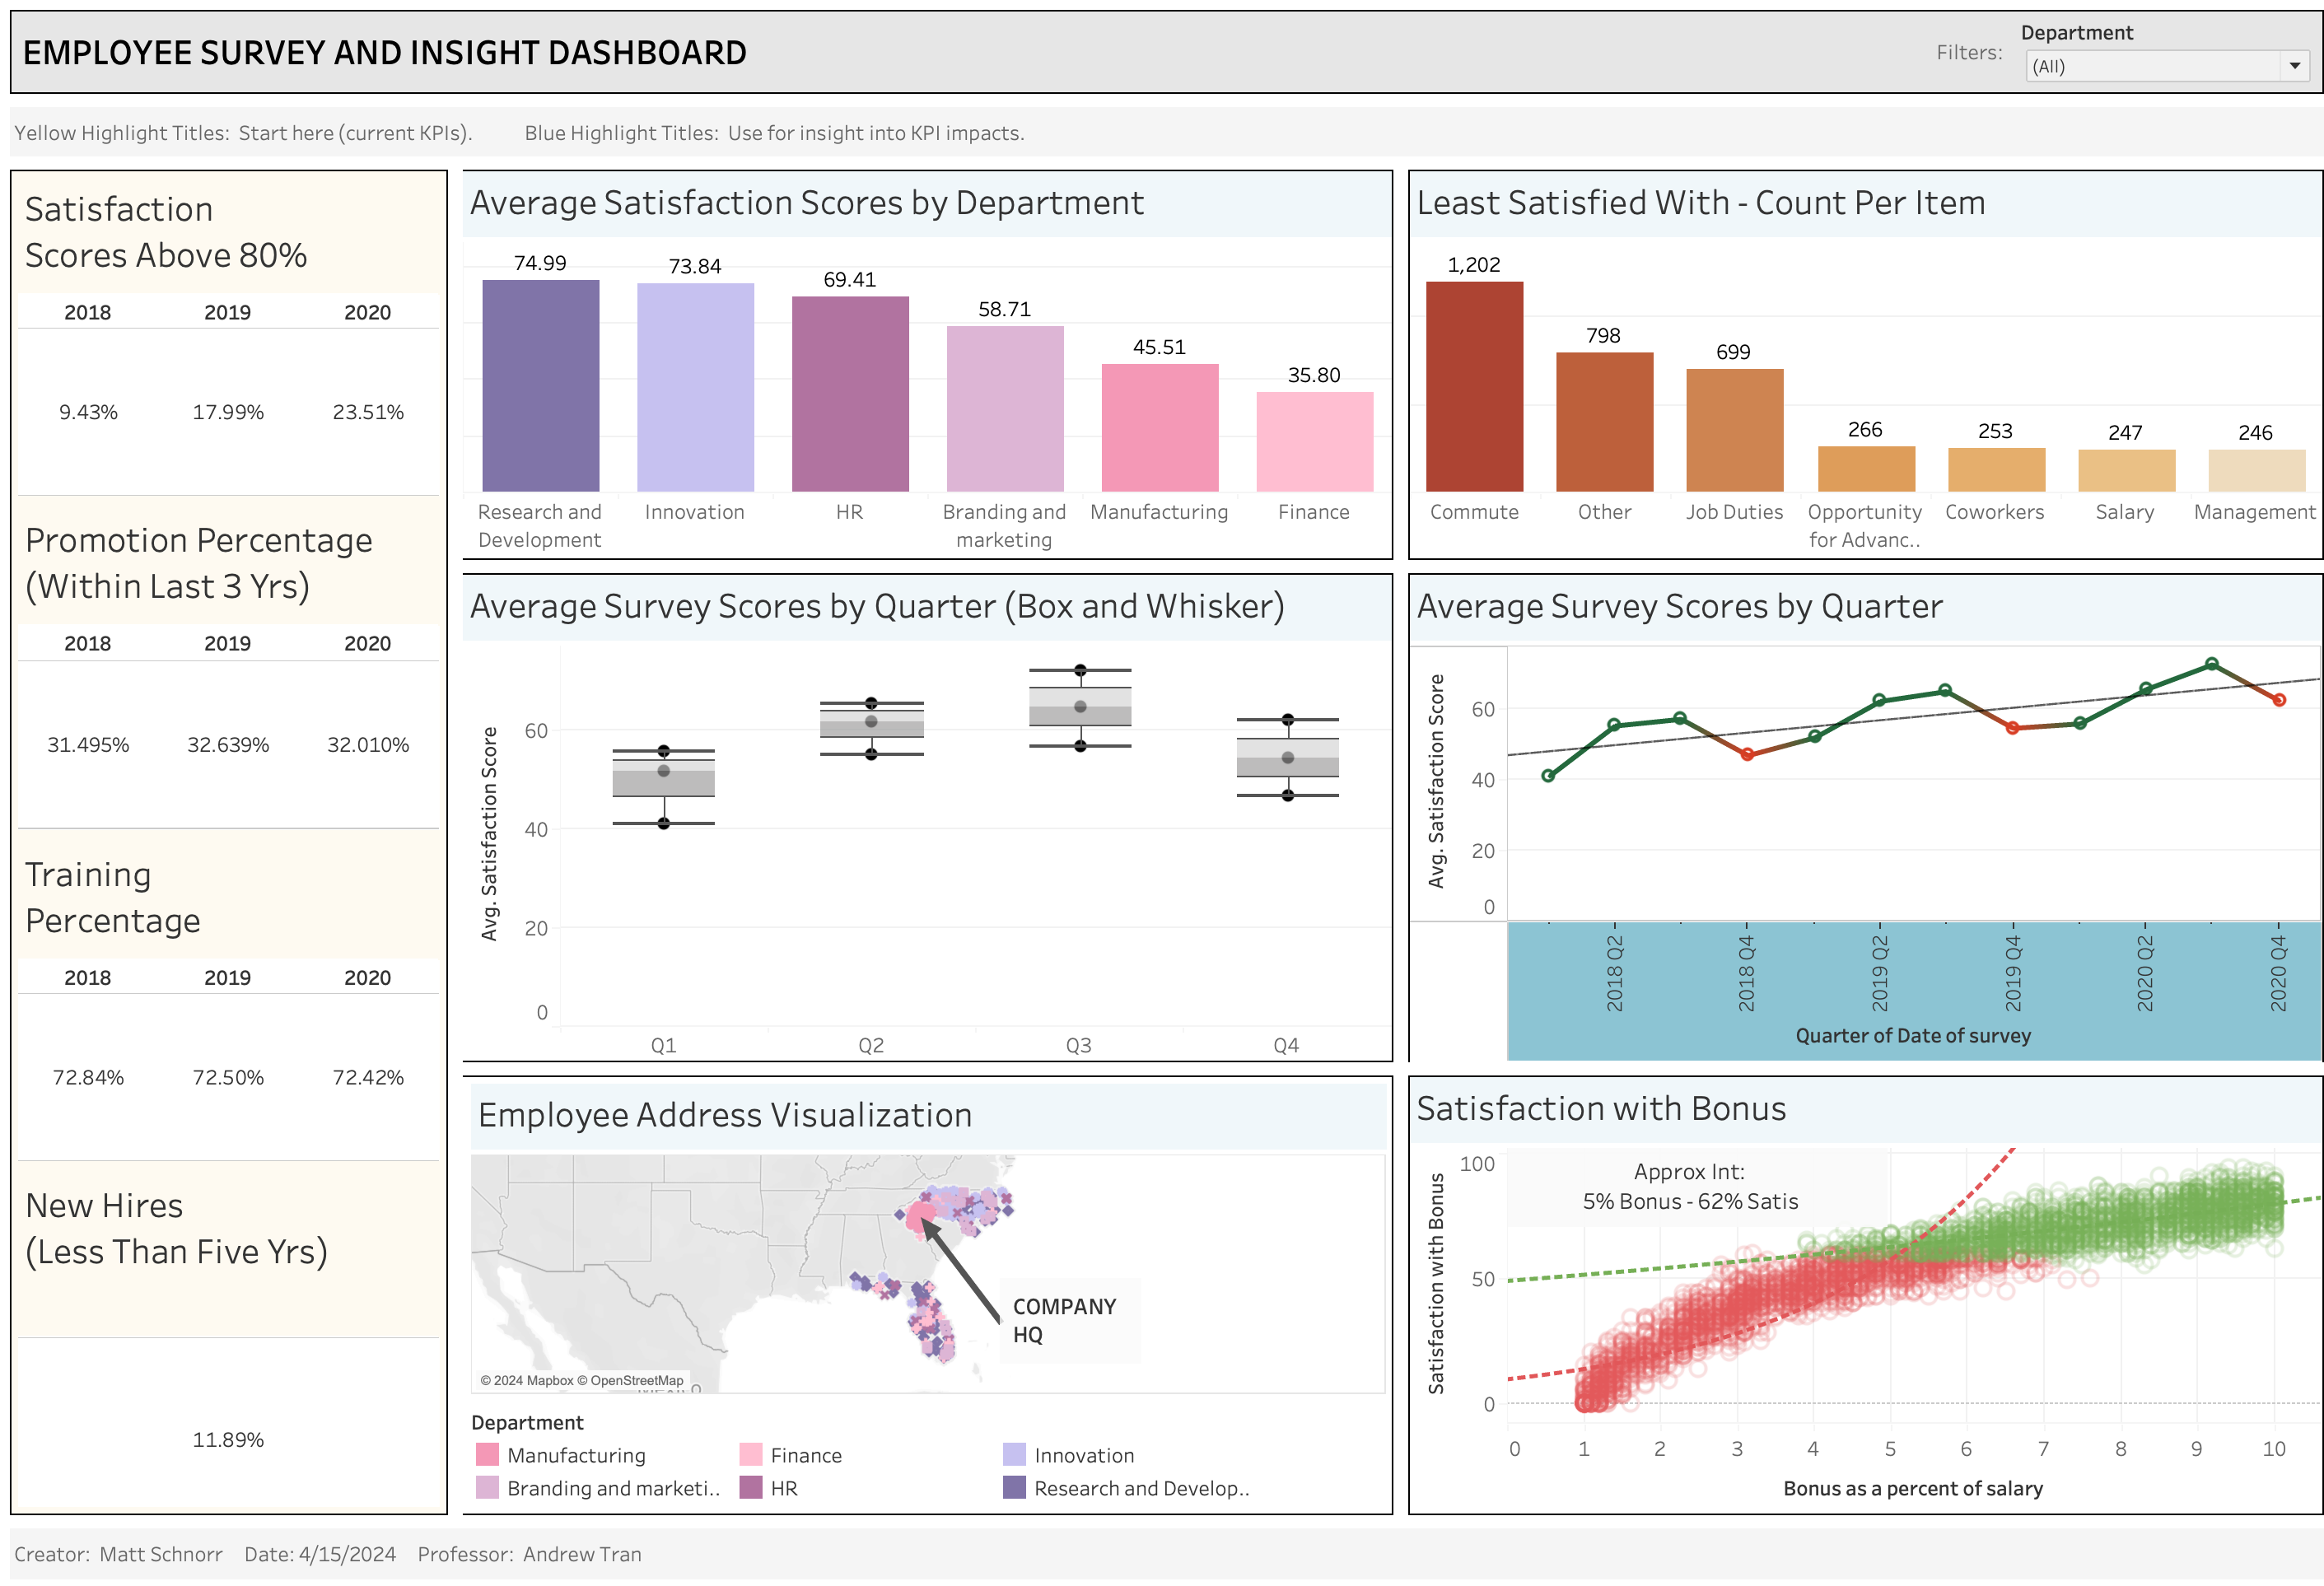

Layout of this report page (visuals, bound fields, positions):
{"tool":"tableau","page":{"name":"Dashboard 1","canvas":[1000,1000],"units":"permille","ordinal":0},"visuals":[{"type":"text","box":[13,17.6,423.7,46.5]},{"type":"text","box":[436.6,17.6,363.8,46.5]},{"type":"filter","title":"Average Satisfaction Scores by Department","param":"[federated.04fmmia0otaq811cxao6e1alb9au].[none:Department:nk]","box":[800.4,17.6,186.6,46.5]},{"type":"text","box":[8,70.9,984,38.7]},{"type":"worksheet","title":"Average Satisfaction Scores by Department","mark":"Bar","rows":["Satisfaction Score"],"cols":["Department"],"box":[199.1,109.5,399.9,249.1]},{"type":"worksheet","title":"Least Satisfied With - Count Per Item","mark":"Automatic","rows":["Calculation_1584633757970759680"],"cols":["Least satisfied with"],"box":[599,109.5,393,249.1]},{"type":"worksheet","title":"Satisfaction Scores Above 80","mark":"Automatic","rows":["Calculation_1584633757984186374"],"cols":["Date of survey"],"box":[13,116.3,181.2,203.5]},{"type":"worksheet","title":"Percentage of Employees Promoted - Last 3 Years","mark":"Automatic","rows":["Calculation_1584633757982851076"],"cols":["Date of survey"],"box":[13,319.9,181.2,242.8]},{"type":"worksheet","title":"Average Survey Scores by Quarter (Box and Whisker)","mark":"Circle","rows":["Satisfaction Score"],"cols":["Date of survey"],"box":[199.1,358.6,399.9,310.8]},{"type":"worksheet","title":"Average Survey Scores by Quarter","mark":"Automatic","rows":["Satisfaction Score","Satisfaction Score"],"cols":["Date of survey"],"box":[599,358.6,393,316.4]},{"type":"worksheet","title":"Percentage of Employees with Training - By Year","mark":"Automatic","cols":["Date of survey"],"box":[13,562.7,181.2,165.6]},{"type":"worksheet","title":"Satisfaction with Bonus - Compared to Bonus % of Salary","mark":"Automatic","rows":["Satisfaction with Bonus"],"cols":["Bonus as a percent of salary"],"box":[599,675,393,274.4]},{"type":"worksheet","title":"Employee Address Visualization","mark":"Shape","box":[204.1,676.2,389.9,174.3]},{"type":"worksheet","title":"New Hires (Less than 5 Years)","mark":"Automatic","rows":["Years at company (bin)"],"box":[13,728.3,181.2,214.4]},{"type":"legend","title":"Employee Address Visualization","param":"[federated.04fmmia0otaq811cxao6e1alb9au].[none:Department:nk]","box":[204.1,850.5,389.9,92.1]},{"type":"text","box":[8,949.4,984,39.7]}]}

Visuals, with their boxes on the dashboard's canvas, which has no fixed pixel size, in thousandths of its width and height (x1, y1, x2, y2). These are canvas units, not pixel positions in the 2324x1586 screenshot, which may show the page scaled, cropped or inside an application window:
text: 13,18,437,64
text: 437,18,800,64
"Average Satisfaction Scores by Department" filter: 800,18,987,64
text: 8,71,992,110
"Average Satisfaction Scores by Department" worksheet (Bar marks): 199,110,599,359
"Least Satisfied With - Count Per Item" worksheet: 599,110,992,359
"Satisfaction Scores Above 80" worksheet: 13,116,194,320
"Percentage of Employees Promoted - Last 3 Years" worksheet: 13,320,194,563
"Average Survey Scores by Quarter (Box and Whisker)" worksheet (Circle marks): 199,359,599,669
"Average Survey Scores by Quarter" worksheet: 599,359,992,675
"Percentage of Employees with Training - By Year" worksheet: 13,563,194,728
"Satisfaction with Bonus - Compared to Bonus % of Salary" worksheet: 599,675,992,949
"Employee Address Visualization" worksheet (Shape marks): 204,676,594,850
"New Hires (Less than 5 Years)" worksheet: 13,728,194,943
"Employee Address Visualization" legend: 204,850,594,943
text: 8,949,992,989
